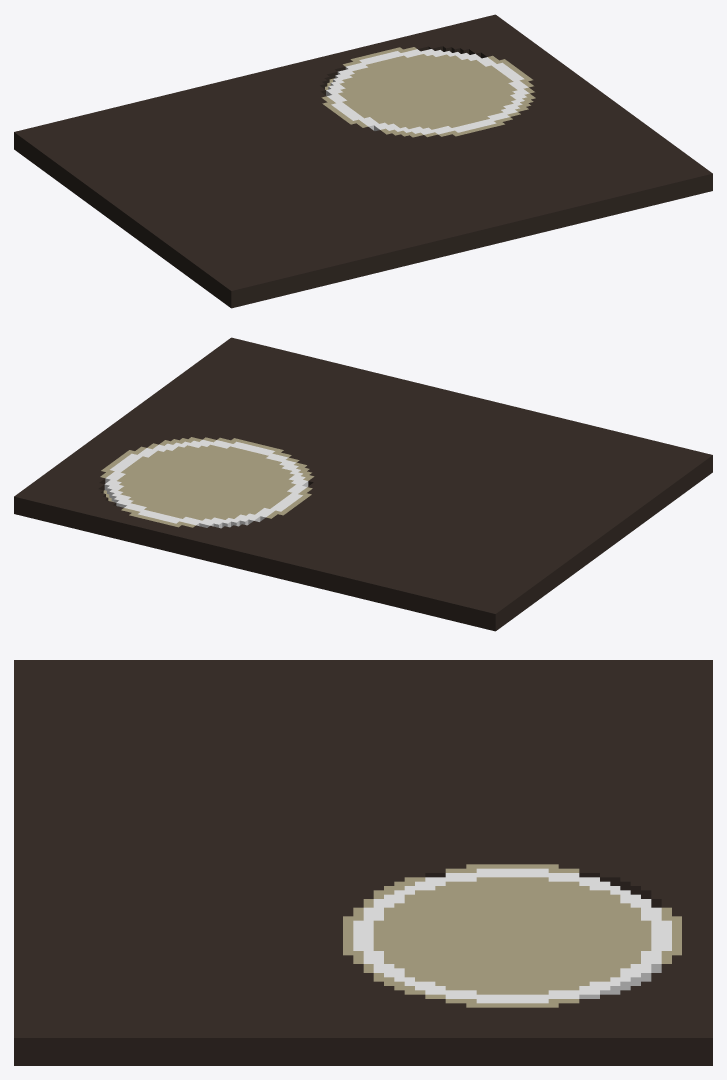
File: old peopl's room-6.obj
3 views of the same model, one above another, from view 1: azimuth 30°, elevation 25°; view 2: azimuth 150°, elevation 25°; view 3: azimuth 270°, elevation 25° (orthographic). The views are drawn at different scales.
Size of the model in its own units: 8.7 by 0.3 by 6.8.
1 material, 1 textured.
